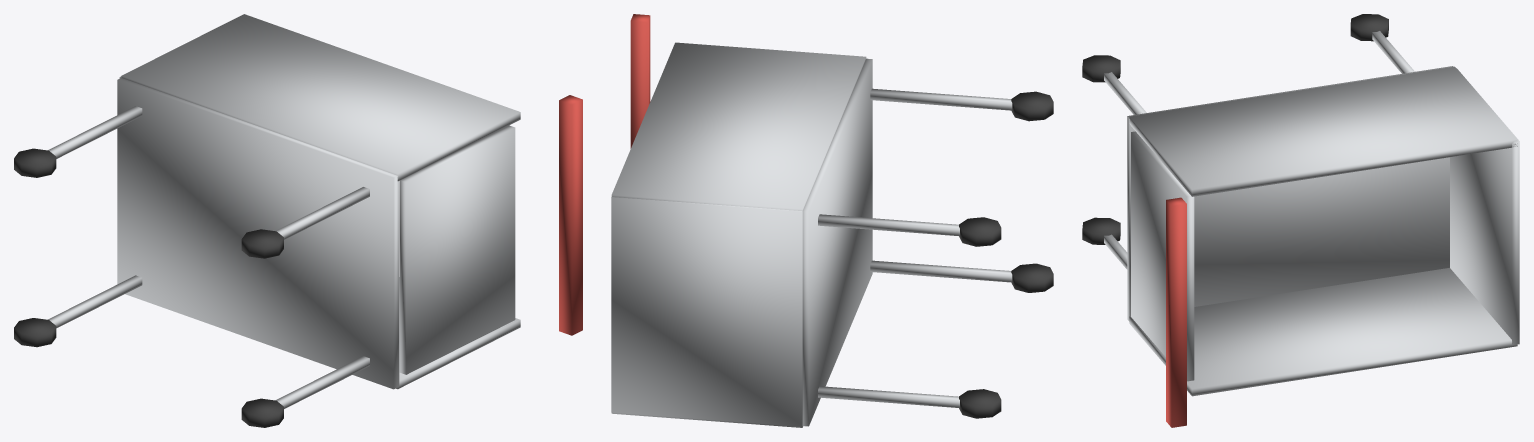
File: lot_cart_tipped.glb
3 views of the same model, side by side, from view 1: azimuth 30°, elevation 25°; view 2: azimuth 150°, elevation 25°; view 3: azimuth 270°, elevation 25° (orthographic). The views are drawn at different scales.
Visible parts, largest first — view 1: lot_cart_tipped; view 2: lot_cart_tipped; view 3: lot_cart_tipped.
Part boxes in pixels (x1,y1,x2,y2): lot_cart_tipped: (14,14,582,427); lot_cart_tipped: (611,14,1053,427); lot_cart_tipped: (1082,14,1519,427).
Size of the model in its own units: 1.26 by 0.6 by 1.07.
